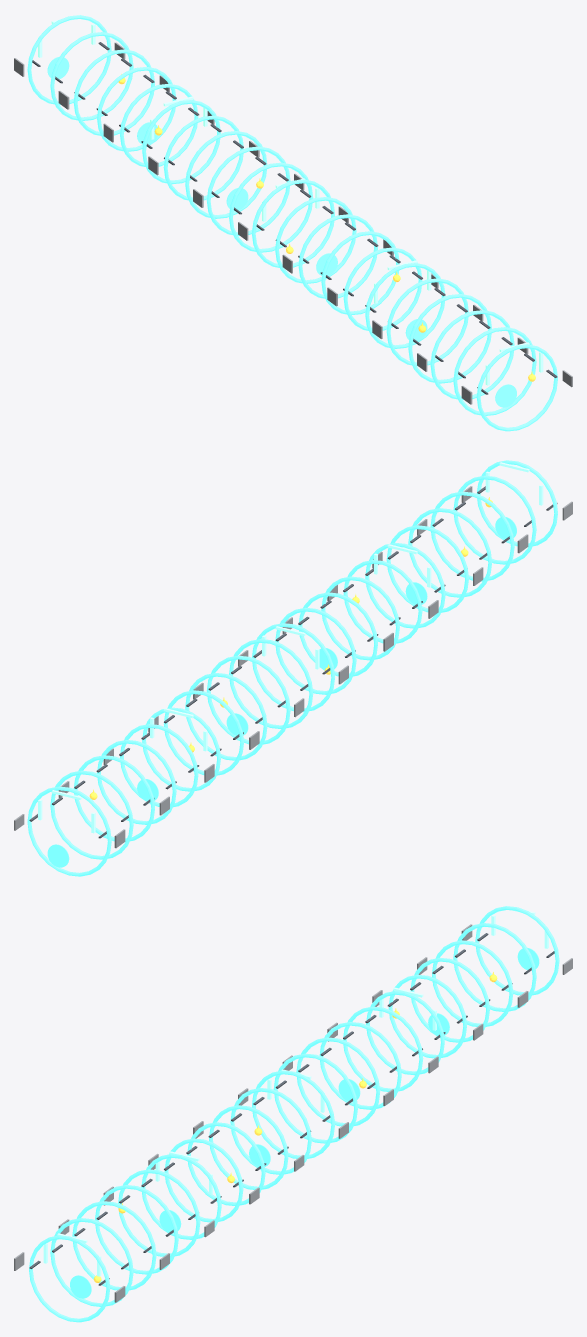
The model's file is flyer_corridor_dense.glb.
The picture shows the model from 3 angles, top to bottom: view 1: azimuth 30°, elevation 25°; view 2: azimuth 150°, elevation 25°; view 3: azimuth 330°, elevation 25°; orthographic projection.
Parts seen in each view (by area): view 1: TunnelRing_000, TunnelRing_012, TunnelRing_044, TunnelRing_076, TunnelRing_004, TunnelRing_080, TunnelRing_048, TunnelRing_008, TunnelRing_036, TunnelRing_040, TunnelRing_016, TunnelRing_072 (+9 smaller); view 2: TunnelRing_080, TunnelRing_076, TunnelRing_004, TunnelRing_044, TunnelRing_008, TunnelRing_012, TunnelRing_048, TunnelRing_036, TunnelRing_040, TunnelRing_052, TunnelRing_068, TunnelRing_016 (+9 smaller); view 3: TunnelRing_000, TunnelRing_048, TunnelRing_004, TunnelRing_012, TunnelRing_044, TunnelRing_072, TunnelRing_080, TunnelRing_008, TunnelRing_076, TunnelRing_040, TunnelRing_016, TunnelRing_056 (+9 smaller).
Part boxes in pixels (x1,y1,x2,y2): TunnelRing_000: [476, 344, 557, 431]; TunnelRing_012: [408, 294, 491, 383]; TunnelRing_044: [229, 162, 313, 252]; TunnelRing_076: [50, 32, 133, 120]; TunnelRing_004: [453, 327, 536, 415]; TunnelRing_080: [27, 15, 111, 104]; TunnelRing_048: [206, 146, 290, 235]; TunnelRing_008: [430, 310, 514, 399]; TunnelRing_036: [275, 197, 356, 283]; TunnelRing_040: [252, 179, 334, 267]; TunnelRing_016: [386, 278, 468, 366]; TunnelRing_072: [73, 49, 154, 135]; TunnelRing_080: [27, 786, 111, 876]; TunnelRing_076: [50, 770, 133, 859]; TunnelRing_004: [453, 475, 536, 564]; TunnelRing_044: [229, 639, 313, 728]; TunnelRing_008: [430, 491, 514, 581]; TunnelRing_012: [408, 508, 491, 597]; TunnelRing_048: [206, 655, 290, 745]; TunnelRing_036: [275, 607, 356, 694]; TunnelRing_040: [252, 623, 334, 712]; TunnelRing_052: [185, 673, 267, 760]; TunnelRing_068: [97, 740, 176, 824]; TunnelRing_016: [386, 525, 468, 612]; TunnelRing_000: [29, 1235, 110, 1322]; TunnelRing_048: [296, 1037, 380, 1126]; TunnelRing_004: [50, 1218, 133, 1306]; TunnelRing_012: [95, 1185, 178, 1274]; TunnelRing_044: [273, 1053, 357, 1143]; TunnelRing_072: [432, 940, 513, 1026]; TunnelRing_080: [475, 906, 559, 995]; TunnelRing_008: [72, 1201, 156, 1290]; TunnelRing_076: [453, 923, 536, 1011]; TunnelRing_040: [252, 1070, 334, 1158]; TunnelRing_016: [118, 1169, 200, 1256]; TunnelRing_056: [343, 1006, 423, 1091].
Bounding box in the file's own units: 10.55 × 8.66 × 82.84.
